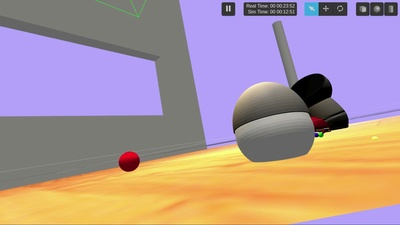mira_robot: (233, 82, 315, 163)
